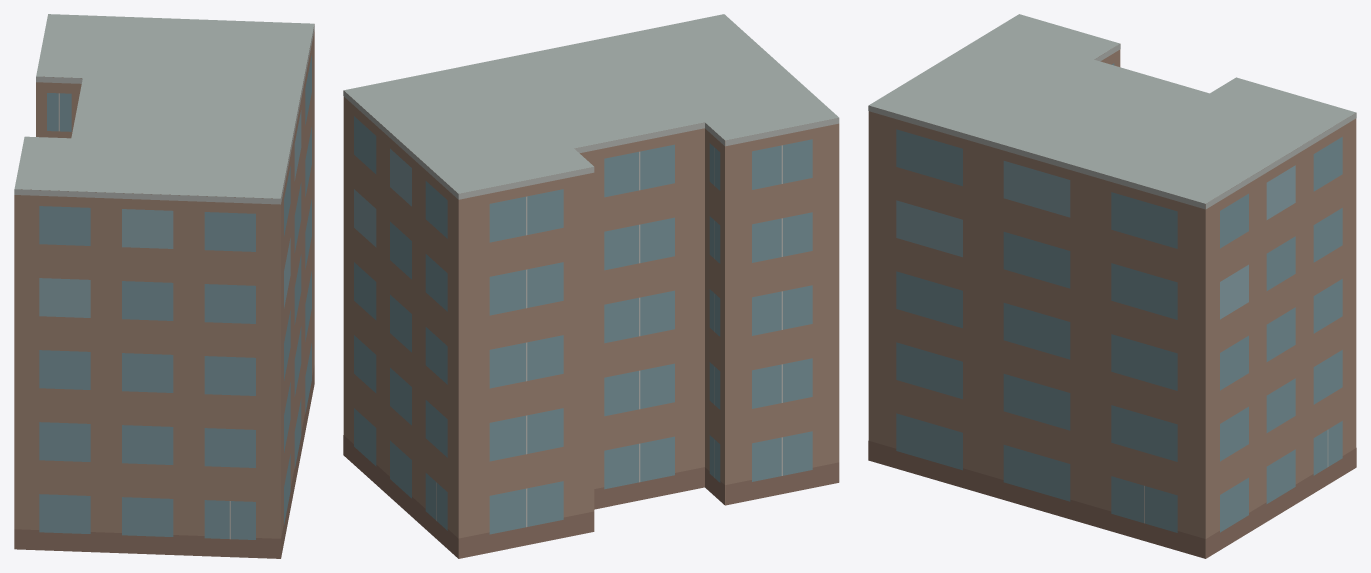
File: survey-upis-32606484.glb
3 views of the same model, side by side, from view 1: azimuth 30°, elevation 25°; view 2: azimuth 150°, elevation 25°; view 3: azimuth 270°, elevation 25° (orthographic). The views are drawn at different scales.
Parts seen in each view (by area): view 1: survey-upis-32606484.tmp; view 2: survey-upis-32606484.tmp; view 3: survey-upis-32606484.tmp.
Boxes of the visible parts, x1,y1,x2,y2 form: survey-upis-32606484.tmp: [14, 14, 314, 558]; survey-upis-32606484.tmp: [343, 14, 839, 558]; survey-upis-32606484.tmp: [868, 14, 1356, 558].
Size of the model in its own units: 17.5 by 15.25 by 19.
